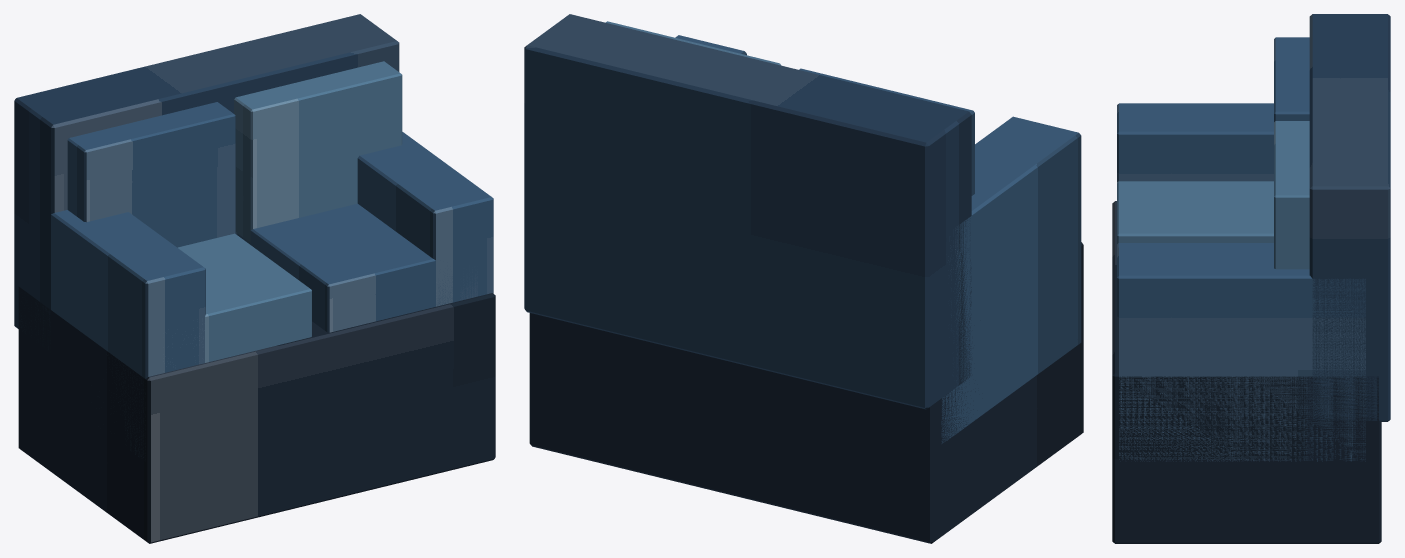
Rendered from lounge_couch_navy.glb.
3 renders of one model, left to right at view 1: azimuth 30°, elevation 25°; view 2: azimuth 150°, elevation 25°; view 3: azimuth 270°, elevation 25°, orthographic. The views are drawn at different scales.
Parts seen in each view (by area): view 1: CouchBase, CouchBack, BackCushion_2, CouchArm_L, BackCushion_1, SeatCushion_2, CouchArm_R, SeatCushion_1; view 2: CouchBack, CouchBase, CouchArm_L, BackCushion_1; view 3: CouchBase, CouchArm_R, CouchBack, CouchArm_L, SeatCushion_1, BackCushion_2, BackCushion_1, SeatCushion_2.
Boxes of the visible parts, bbox=[...] form: CouchBase: bbox=[18, 286, 495, 543]; CouchBack: bbox=[14, 14, 399, 349]; BackCushion_2: bbox=[234, 61, 402, 242]; CouchArm_L: bbox=[51, 210, 205, 459]; BackCushion_1: bbox=[67, 102, 235, 247]; SeatCushion_2: bbox=[237, 203, 477, 332]; CouchArm_R: bbox=[357, 132, 493, 306]; SeatCushion_1: bbox=[178, 233, 311, 362]; CouchBack: bbox=[524, 14, 971, 409]; CouchBase: bbox=[529, 242, 1083, 543]; CouchArm_L: bbox=[941, 116, 1081, 443]; BackCushion_1: bbox=[799, 68, 974, 195]; CouchBase: bbox=[1112, 201, 1381, 543]; CouchArm_R: bbox=[1117, 247, 1365, 461]; CouchBack: bbox=[1309, 14, 1390, 421]; CouchArm_L: bbox=[1117, 103, 1273, 181]; SeatCushion_1: bbox=[1117, 181, 1273, 243]; BackCushion_2: bbox=[1274, 121, 1309, 269]; BackCushion_1: bbox=[1274, 37, 1309, 121]; SeatCushion_2: bbox=[1117, 243, 1273, 248].
Size of the model in its own units: 0.92 by 0.91 by 0.62.
1 material, 1 textured.
